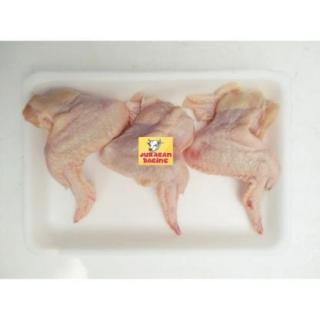Ayam: (26, 90, 133, 225), (186, 86, 280, 237), (100, 100, 194, 238)
